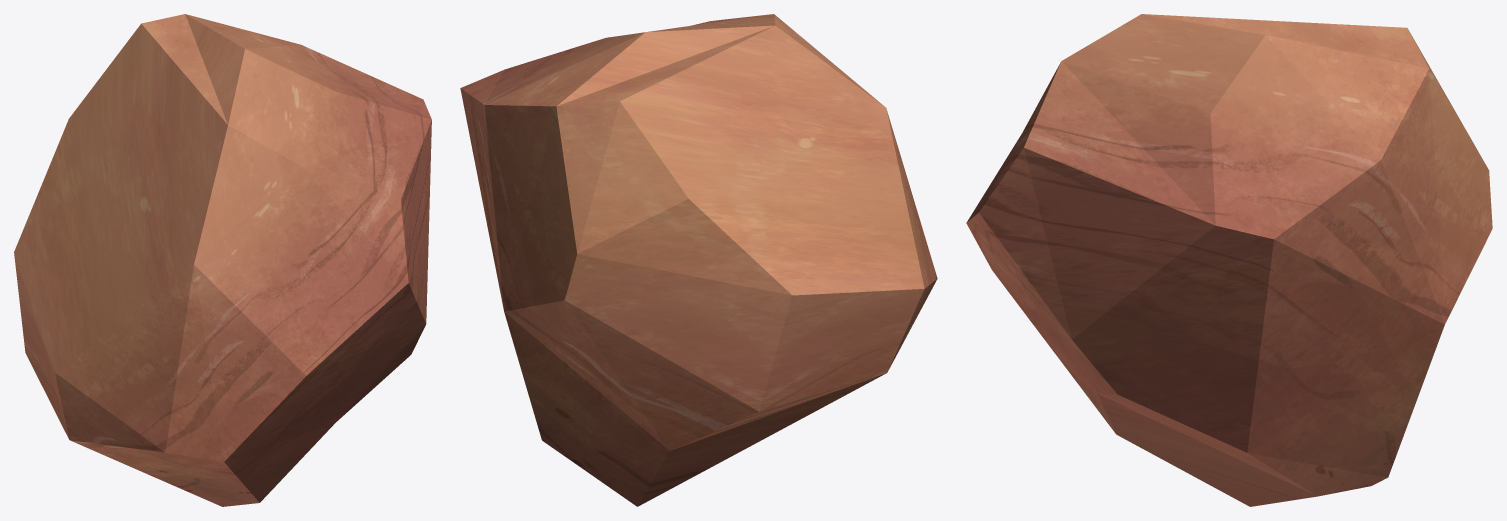
Rendered from rock_2_011.fbx.
The picture shows the model from 3 angles, left to right: view 1: azimuth 30°, elevation 25°; view 2: azimuth 150°, elevation 25°; view 3: azimuth 270°, elevation 25°; orthographic projection. The views are drawn at different scales.
Parts seen in each view (by area): view 1: rock 2.011; view 2: rock 2.011; view 3: rock 2.011.
Part boxes in pixels (left/top/right/bottom): rock 2.011: left=14, top=14, right=431, bottom=506; rock 2.011: left=460, top=14, right=937, bottom=506; rock 2.011: left=966, top=14, right=1492, bottom=506.
Bounding box in the file's own units: 238 × 242 × 237.
